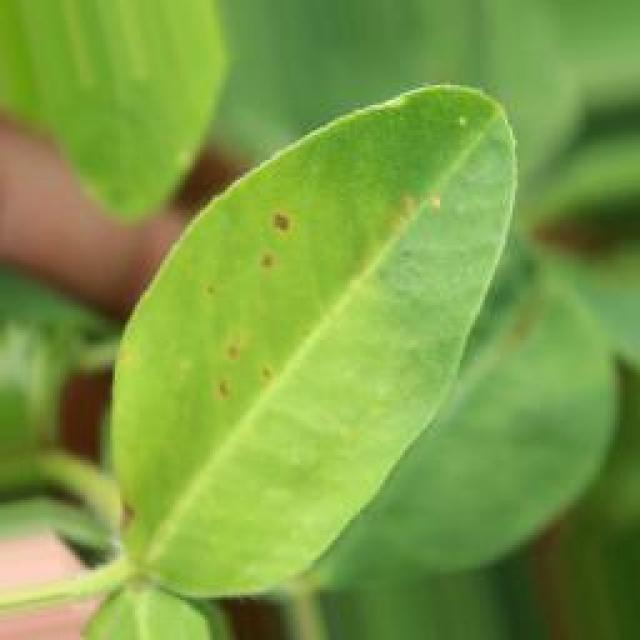Sigatoka: (180, 332, 303, 422), (339, 175, 449, 252), (88, 485, 169, 565), (247, 170, 300, 284), (190, 276, 276, 334)
